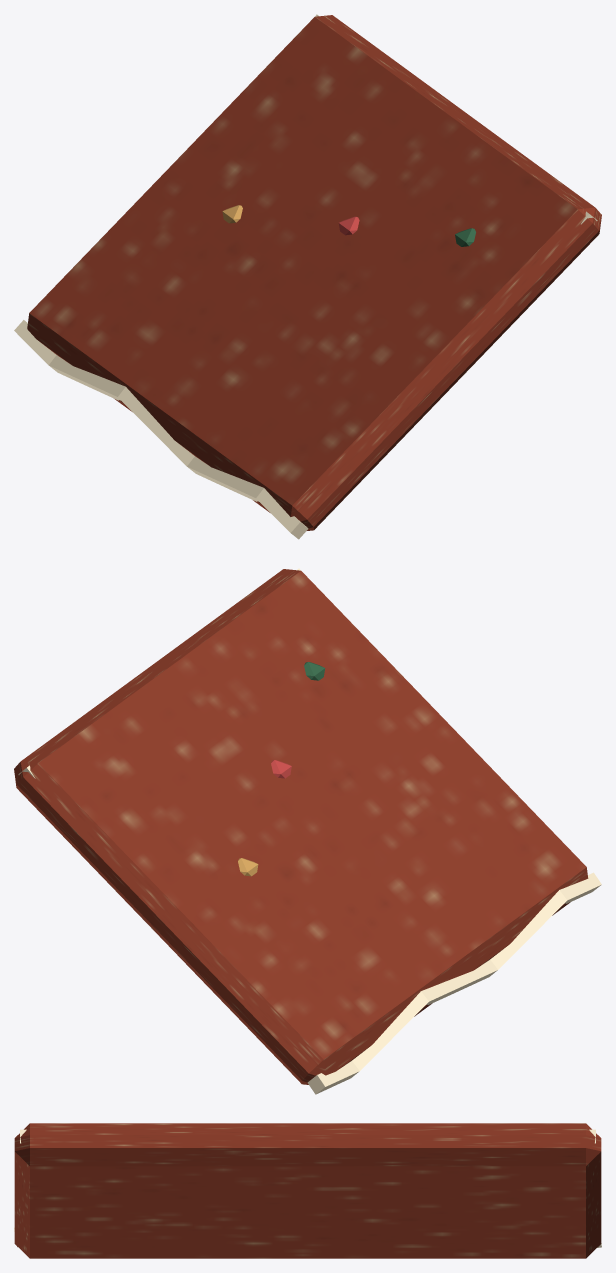
The model's file is gingerbread_house_piece_roof_left.glb.
3 views of the same model, one above another, from view 1: azimuth 30°, elevation 25°; view 2: azimuth 150°, elevation 25°; view 3: azimuth 270°, elevation 25° (orthographic). The views are drawn at different scales.
Parts seen in each view (by area): view 1: roof_left; view 2: roof_left; view 3: roof_left.
Boxes of the visible parts, <box> form: roof_left: <box>14,14,601,539</box>; roof_left: <box>14,568,601,1094</box>; roof_left: <box>14,1123,601,1258</box>.
Bounding box in the file's own units: 0.1767 × 0.1411 × 0.2675.
6 materials, 1 textured.
